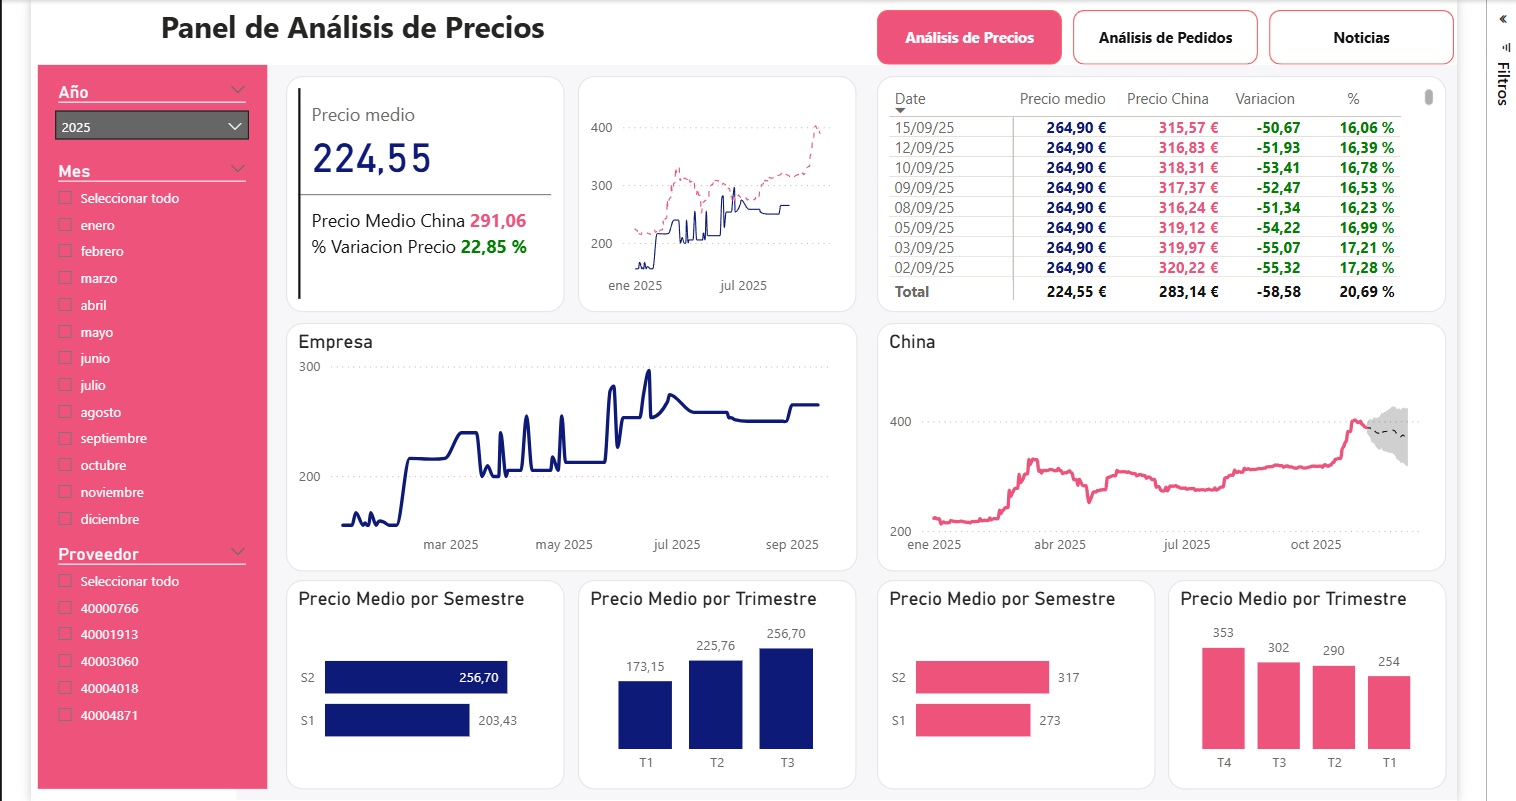

This screenshot's page, from the dashboard's own definition file:
{"tool":"powerbi","page":{"name":"Análisis de Precios","canvas":[1280,720],"ordinal":0},"visuals":[{"type":"cardVisual","fields":{"Data":["PedidoLin.Precio medio"]},"box":[228.9,68.2,249.6,211.9],"z":0},{"type":"lineChart","title":"Precios compras histórico","fields":{"Y":["Avg(PedidoLin.Precio)"],"Category":["Calendario.Date"]},"box":[228.6,289.8,512.6,222.7],"z":1000},{"type":"slicer","fields":{"Values":["Calendario.Año"]},"box":[11.7,68.1,193.6,70],"z":2000},{"type":"slicer","fields":{"Values":["Calendario.NombreMes"]},"box":[11.7,139.1,193.6,344.3],"z":3000},{"type":"barChart","title":"Precio Medio por Semestre","fields":{"Category":["Calendario.Semestre"],"Y":["Avg(PedidoLin.Precio)"]},"box":[228.6,520.4,250,187.7],"z":4000},{"type":"columnChart","title":"Precio Medio por Trimestre","fields":{"Category":["Calendario.Trimestre"],"Y":["Avg(PedidoLin.Precio)"]},"box":[491.2,520.4,250,187.7],"z":5000},{"type":"textbox","box":[110.9,0,432.8,68.1],"z":6000},{"type":"slicer","fields":{"Values":["PedidoLin.ProveedorFra"]},"box":[11.7,483.4,193.6,214],"z":7000},{"type":"pageNavigator","box":[759.6,8.8,520.4,49.6],"z":8000},{"type":"lineChart","title":"Precios China","fields":{"Category":["Calendario.Date"],"Y":["Avg(Sulfur prices.PriceEur)"]},"box":[759.6,289.8,510.6,222.7],"z":9000},{"type":"barChart","title":"Precio Medio por Semestre","fields":{"Category":["Calendario.Semestre"],"Y":["Avg(Sulfur prices.PriceEur)"]},"box":[759.6,520.4,250,187.7],"z":10000},{"type":"columnChart","title":"Precio Medio por Trimestre","fields":{"Category":["Calendario.Trimestre"],"Y":["Avg(Sulfur prices.PriceEur)"]},"box":[1020.3,520.4,250,187.7],"z":11000},{"type":"pivotTable","title":"Comparativa","fields":{"Rows":["Calendario.Date"],"Values":["PedidoLin.Precio medio","Avg(sulfur_5y_precios1W.PriceEur)","select","select1"]},"box":[759.6,68.1,510.6,212],"z":12000},{"type":"cardVisual","title":"Empresa","fields":{"Data":["PedidoLin.Último Precio Compras"]},"box":[491.1,68.2,249.6,211.9],"z":13000}]}

Visuals, with their boxes on the page's 1280x720 design canvas (x1, y1, x2, y2). These are canvas units, not pixel positions in the 1516x801 screenshot, which may show the page scaled, cropped or inside an application window:
cardVisual - PedidoLin.Precio medio: {"left": 229, "top": 68, "right": 478, "bottom": 280}
"Precios compras histórico" lineChart: {"left": 229, "top": 290, "right": 741, "bottom": 512}
slicer - Calendario.Año: {"left": 12, "top": 68, "right": 205, "bottom": 138}
slicer - Calendario.NombreMes: {"left": 12, "top": 139, "right": 205, "bottom": 483}
"Precio Medio por Semestre" barChart: {"left": 229, "top": 520, "right": 479, "bottom": 708}
"Precio Medio por Trimestre" columnChart: {"left": 491, "top": 520, "right": 741, "bottom": 708}
textbox: {"left": 111, "top": 0, "right": 544, "bottom": 68}
slicer - PedidoLin.ProveedorFra: {"left": 12, "top": 483, "right": 205, "bottom": 697}
pageNavigator: {"left": 760, "top": 9, "right": 1280, "bottom": 58}
"Precios China" lineChart: {"left": 760, "top": 290, "right": 1270, "bottom": 512}
"Precio Medio por Semestre" barChart: {"left": 760, "top": 520, "right": 1010, "bottom": 708}
"Precio Medio por Trimestre" columnChart: {"left": 1020, "top": 520, "right": 1270, "bottom": 708}
"Comparativa" pivotTable: {"left": 760, "top": 68, "right": 1270, "bottom": 280}
"Empresa" cardVisual: {"left": 491, "top": 68, "right": 741, "bottom": 280}
